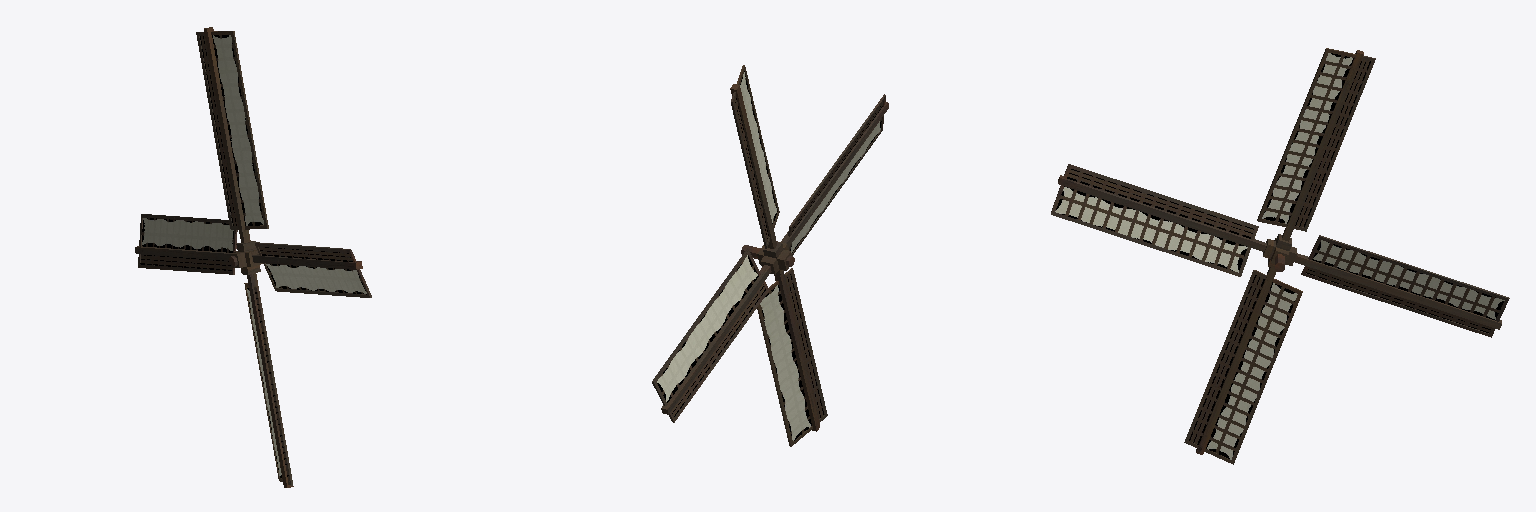
3 renders of one model, left to right at view 1: azimuth 30°, elevation 25°; view 2: azimuth 150°, elevation 25°; view 3: azimuth 270°, elevation 25°, orthographic.
Parts seen in each view (by area): view 1: Object_wingswith.jpg; view 2: Object_wingswith.jpg; view 3: Object_wingswith.jpg.
Boxes of the visible parts, box(x1,y1,x2,y2) form: Object_wingswith.jpg: box(135, 27, 371, 487); Object_wingswith.jpg: box(652, 65, 888, 446); Object_wingswith.jpg: box(1051, 48, 1509, 464).
Bounding box in the file's own units: 0.302 × 2.5 × 2.5.
2 materials, 1 textured.